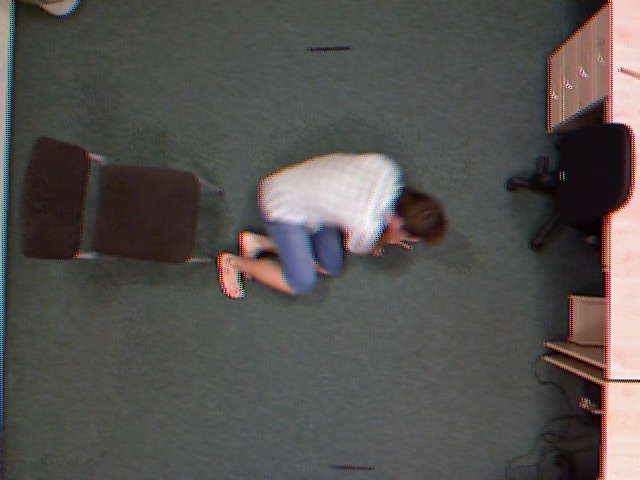fall: (213, 146, 452, 301)
